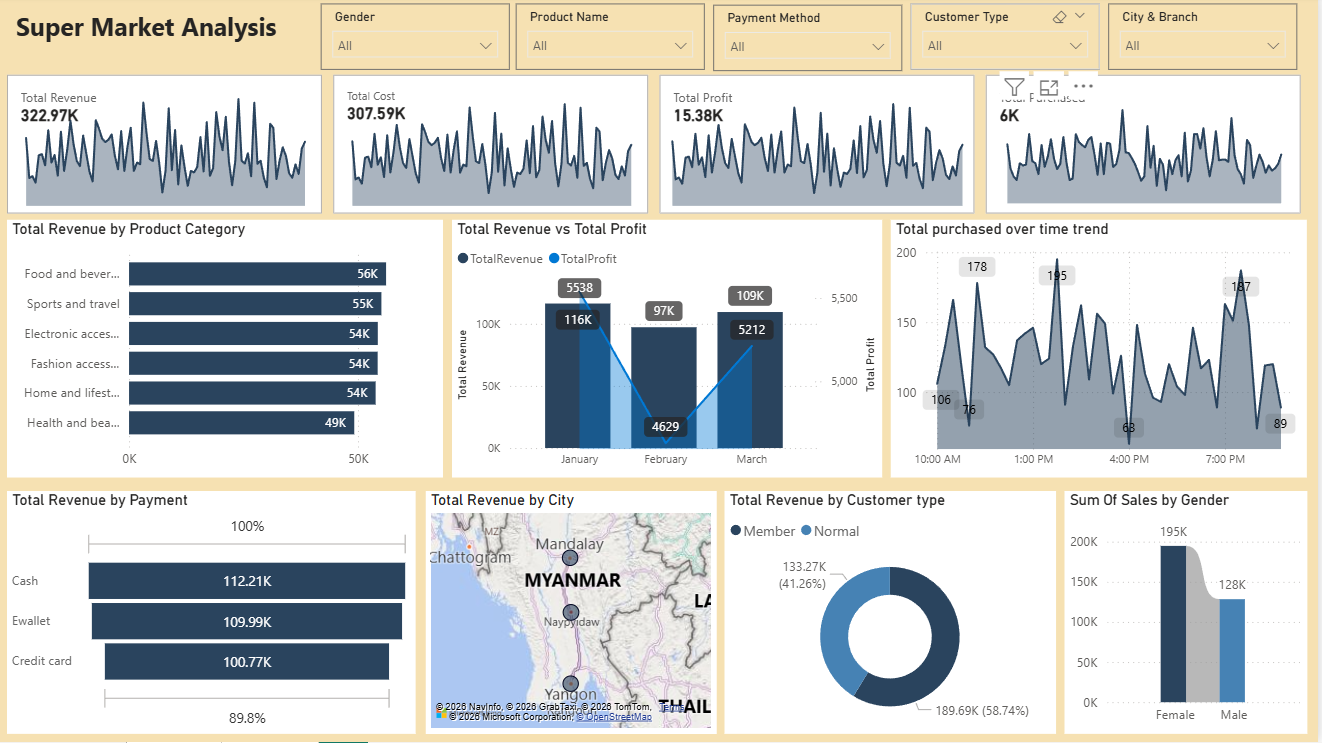

What the dashboard file says about the page in this screenshot:
{"tool":"powerbi","page":{"name":"Super Market Analysis","canvas":[1280,720],"ordinal":1},"visuals":[{"type":"textbox","box":[18.1,8.4,289.5,47.1],"z":0},{"type":"cardVisual","fields":{"Data":["Fact-SuperMarket.TotalRevenue"]},"box":[9.7,71.2,314.9,144.8],"z":1000},{"type":"cardVisual","fields":{"Data":["Fact-SuperMarket.TotalCost"]},"box":[324.5,71.2,314.9,144.8],"z":2000},{"type":"cardVisual","fields":{"Data":["Fact-SuperMarket.TotalProfit"]},"box":[639.4,71.2,314.9,144.8],"z":3000},{"type":"areaChart","fields":{"Y":["Fact-SuperMarket.TotalCost"],"Category":["DIM-Date.Date.Variation.Date Hierarchy.Year","DIM-Date.Date.Variation.Date Hierarchy.Quarter","DIM-Date.Date.Variation.Date Hierarchy.Month","DIM-Date.Date.Variation.Date Hierarchy.Day"]},"box":[333,78.4,299.2,130.3],"z":4000},{"type":"cardVisual","fields":{"Data":["Fact-SuperMarket.TotalQty"]},"box":[954.3,71.2,314.9,144.8],"z":5000},{"type":"areaChart","fields":{"Y":["Fact-SuperMarket.TotalProfit"],"Category":["DIM-Date.Date.Variation.Date Hierarchy.Year","DIM-Date.Date.Variation.Date Hierarchy.Quarter","DIM-Date.Date.Variation.Date Hierarchy.Month","DIM-Date.Date.Variation.Date Hierarchy.Day"]},"box":[641.8,78.4,310.1,130.3],"z":6000},{"type":"areaChart","fields":{"Y":["Fact-SuperMarket.TotalQty"],"Category":["DIM-Date.Date.Variation.Date Hierarchy.Year","DIM-Date.Date.Variation.Date Hierarchy.Quarter","DIM-Date.Date.Variation.Date Hierarchy.Month","DIM-Date.Date.Variation.Date Hierarchy.Day"]},"box":[965.2,80.8,294.4,125.5],"z":7000},{"type":"areaChart","fields":{"Category":["DIM-Date.Date.Variation.Date Hierarchy.Year","DIM-Date.Date.Variation.Date Hierarchy.Quarter","DIM-Date.Date.Variation.Date Hierarchy.Month","DIM-Date.Date.Variation.Date Hierarchy.Day"],"Y":["Fact-SuperMarket.TotalRevenue"]},"box":[18.1,78.4,299.2,130.3],"z":8000},{"type":"slicer","fields":{"Values":["DIM-Location.City","DIM-Location.Branch"]},"box":[1077.4,7.2,182.2,63.9],"z":9000},{"type":"slicer","fields":{"Values":["DIM-Type.Customer type"]},"box":[886.7,7.2,182.2,63.9],"z":10000},{"type":"slicer","fields":{"Values":["DIM-Payment.Payment"]},"box":[696.1,8.4,182.2,63.9],"z":11000},{"type":"slicer","fields":{"Values":["DIM-Product.Product"]},"box":[505.5,7.2,182.2,63.9],"z":12000},{"type":"slicer","fields":{"Values":["DIM-Gender.Gender"]},"box":[317.3,7.2,182.2,63.9],"z":13000},{"type":"barChart","title":"Total Revenue by Product Category","fields":{"Y":["Fact-SuperMarket.TotalRevenue"],"Category":["DIM-Product.Product"]},"box":[14.5,216,421,248.5],"z":14000},{"type":"map","title":"Total Revenue by City","fields":{"Category":["DIM-Location.City"],"Size":["Fact-SuperMarket.TotalRevenue"]},"box":[418.6,477.8,277.5,234],"z":15000},{"type":"funnel","title":"Count of Sales Transaction by Payment","fields":{"Category":["DIM-Payment.Payment"],"Y":["Fact-SuperMarket.Count of sales transaction"]},"box":[14.5,477.8,394.5,234],"z":16000},{"type":"donutChart","title":"Total Revenue by Customer type","fields":{"Y":["Fact-SuperMarket.TotalRevenue"],"Category":["DIM-Type.Customer type"]},"box":[707,477.8,319.7,234],"z":17000},{"type":"columnChart","title":"Sum Of Sales by Gender","fields":{"Category":["DIM-Gender.Gender"],"Y":["Sum(Fact-SuperMarket.Sales)"]},"box":[1035.1,477.8,234,234],"z":18000},{"type":"lineClusteredColumnComboChart","title":"Total Revenue vs Total Profit","fields":{"Category":["DIM-Date.Date.Variation.Date Hierarchy.Year","DIM-Date.Date.Variation.Date Hierarchy.Quarter","DIM-Date.Date.Variation.Date Hierarchy.Month","DIM-Date.Date.Variation.Date Hierarchy.Day"],"Y":["Fact-SuperMarket.TotalRevenue"],"Y2":["Fact-SuperMarket.TotalProfit"]},"box":[444,216,415,248.5],"z":19000},{"type":"areaChart","title":"Total quantity purchased over hour","fields":{"Category":["Fact-SuperMarket.Time (bins)"],"Y":["Fact-SuperMarket.TotalQty"]},"box":[867.4,216,401.7,248.5],"z":20000}]}

Visuals, with their boxes in screenshot pixels (x1, y1, x2, y2), scaled from the page's 1280x720 canvas onto the 1322x743 screenshot:
textbox: pyautogui.locateOnScreen(19, 9, 318, 57)
cardVisual - Fact-SuperMarket.TotalRevenue: pyautogui.locateOnScreen(10, 73, 335, 223)
cardVisual - Fact-SuperMarket.TotalCost: pyautogui.locateOnScreen(335, 73, 660, 223)
cardVisual - Fact-SuperMarket.TotalProfit: pyautogui.locateOnScreen(660, 73, 986, 223)
areaChart - Fact-SuperMarket.TotalCost x DIM-Date.Date.Variation.Date Hierarchy.Year: pyautogui.locateOnScreen(344, 81, 653, 215)
cardVisual - Fact-SuperMarket.TotalQty: pyautogui.locateOnScreen(986, 73, 1311, 223)
areaChart - Fact-SuperMarket.TotalProfit x DIM-Date.Date.Variation.Date Hierarchy.Year: pyautogui.locateOnScreen(663, 81, 983, 215)
areaChart - Fact-SuperMarket.TotalQty x DIM-Date.Date.Variation.Date Hierarchy.Year: pyautogui.locateOnScreen(997, 83, 1301, 213)
areaChart - DIM-Date.Date.Variation.Date Hierarchy.Year x DIM-Date.Date.Variation.Date Hierarchy.Quarter: pyautogui.locateOnScreen(19, 81, 328, 215)
slicer - DIM-Location.City x DIM-Location.Branch: pyautogui.locateOnScreen(1113, 7, 1301, 73)
slicer - DIM-Type.Customer type: pyautogui.locateOnScreen(916, 7, 1104, 73)
slicer - DIM-Payment.Payment: pyautogui.locateOnScreen(719, 9, 907, 75)
slicer - DIM-Product.Product: pyautogui.locateOnScreen(522, 7, 710, 73)
slicer - DIM-Gender.Gender: pyautogui.locateOnScreen(328, 7, 516, 73)
"Total Revenue by Product Category" barChart: pyautogui.locateOnScreen(15, 223, 450, 479)
"Total Revenue by City" map: pyautogui.locateOnScreen(432, 493, 719, 735)
"Count of Sales Transaction by Payment" funnel: pyautogui.locateOnScreen(15, 493, 422, 735)
"Total Revenue by Customer type" donutChart: pyautogui.locateOnScreen(730, 493, 1060, 735)
"Sum Of Sales by Gender" columnChart: pyautogui.locateOnScreen(1069, 493, 1311, 735)
"Total Revenue vs Total Profit" lineClusteredColumnComboChart: pyautogui.locateOnScreen(459, 223, 887, 479)
"Total quantity purchased over hour" areaChart: pyautogui.locateOnScreen(896, 223, 1311, 479)
